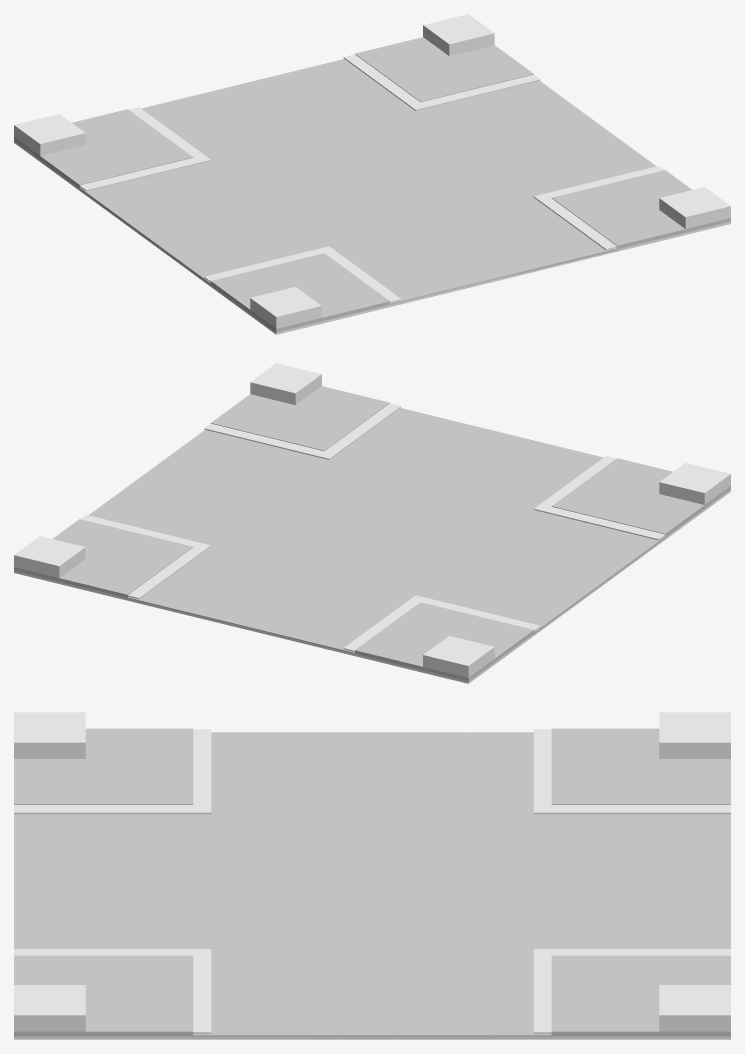
The picture shows the model from 3 angles, top to bottom: view 1: azimuth 30°, elevation 25°; view 2: azimuth 150°, elevation 25°; view 3: azimuth 270°, elevation 25°; orthographic projection. The views are drawn at different scales.
Visible parts, largest first — view 1: Road_20x20, Road_10x20__2_, Road_10x20__3_, Road_10x20, Road_10x20__1_, Path_2, Path_3, Path_1, Path, Curved_Building_1x1, Curved_Building_1x1__1_, Curved_Building_1x1__2_ (+10 smaller); view 2: Road_20x20, Road_10x20, Road_10x20__3_, Road_10x20__2_, Road_10x20__1_, Path_1, Path, Path_2, Path_3, Curved_Building_1x1__1_, Curved_Building_1x1__2_, Curved_Building_1x1__3_ (+10 smaller); view 3: Road_20x20, Road_10x20__1_, Road_10x20__3_, Road_10x20, Road_10x20__2_, Path, Path_3, Path_1, Path_2, Curved_Building_1x1, Curved_Building_1x1__1_, Curved_Building_1x1__2_ (+10 smaller).
Boxes of the visible parts, x1,y1,x2,y2 form: Road_20x20: (199, 107, 542, 252); Road_10x20__2_: (338, 203, 617, 304); Road_10x20__3_: (79, 164, 315, 284); Road_10x20: (141, 59, 409, 156); Road_10x20__1_: (426, 81, 655, 193); Path_2: (355, 37, 534, 102); Path_3: (14, 109, 193, 187); Path_1: (552, 170, 730, 249); Path: (210, 253, 389, 332); Curved_Building_1x1: (250, 287, 321, 328); Curved_Building_1x1__1_: (659, 187, 730, 228); Curved_Building_1x1__2_: (423, 14, 494, 55); Road_20x20: (202, 456, 545, 601); Road_10x20: (127, 552, 406, 653); Road_10x20__3_: (429, 513, 665, 633); Road_10x20__2_: (335, 408, 603, 505); Road_10x20__1_: (89, 430, 318, 542); Path_1: (210, 386, 389, 451); Path: (551, 458, 730, 536); Path_2: (14, 519, 192, 598); Path_3: (355, 602, 534, 681); Curved_Building_1x1__1_: (250, 363, 321, 404); Curved_Building_1x1__2_: (14, 536, 85, 577); Curved_Building_1x1__3_: (423, 636, 494, 677); Road_20x20: (193, 808, 551, 959); Road_10x20__1_: (193, 959, 551, 1037); Road_10x20__3_: (211, 732, 533, 807); Road_10x20: (551, 814, 730, 948); Road_10x20__2_: (14, 814, 193, 948); Path: (14, 728, 193, 804); Path_3: (551, 728, 730, 804); Path_1: (14, 955, 193, 1036); Path_2: (551, 955, 730, 1036); Curved_Building_1x1: (14, 712, 85, 758); Curved_Building_1x1__1_: (14, 985, 85, 1031); Curved_Building_1x1__2_: (659, 985, 730, 1031).
Bounding box in the file's own units: 4000 × 150 × 4000.
